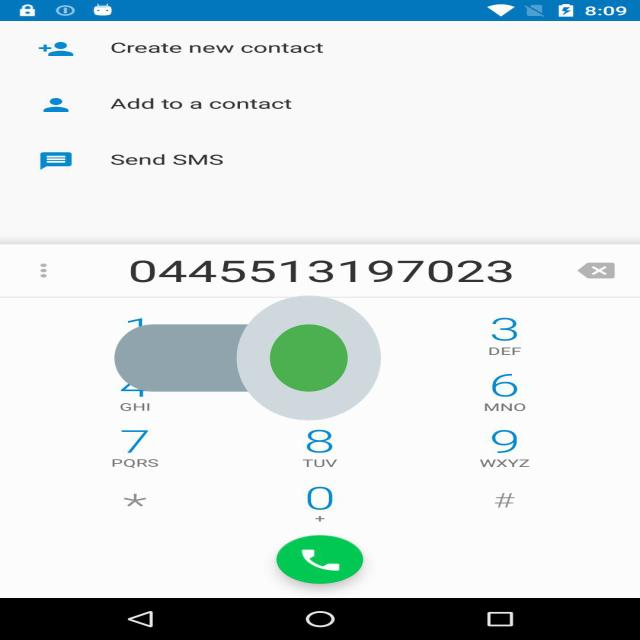social proof: (114, 243, 381, 473)
